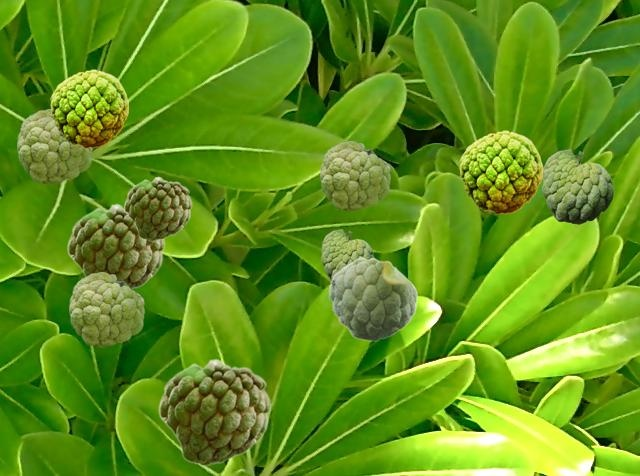atis: (157, 358, 270, 465), (66, 203, 164, 288), (328, 257, 417, 340), (459, 130, 541, 213), (50, 69, 127, 147), (17, 109, 91, 183), (69, 272, 143, 346), (542, 149, 612, 223), (320, 141, 389, 210), (123, 176, 191, 240), (321, 229, 373, 280)
